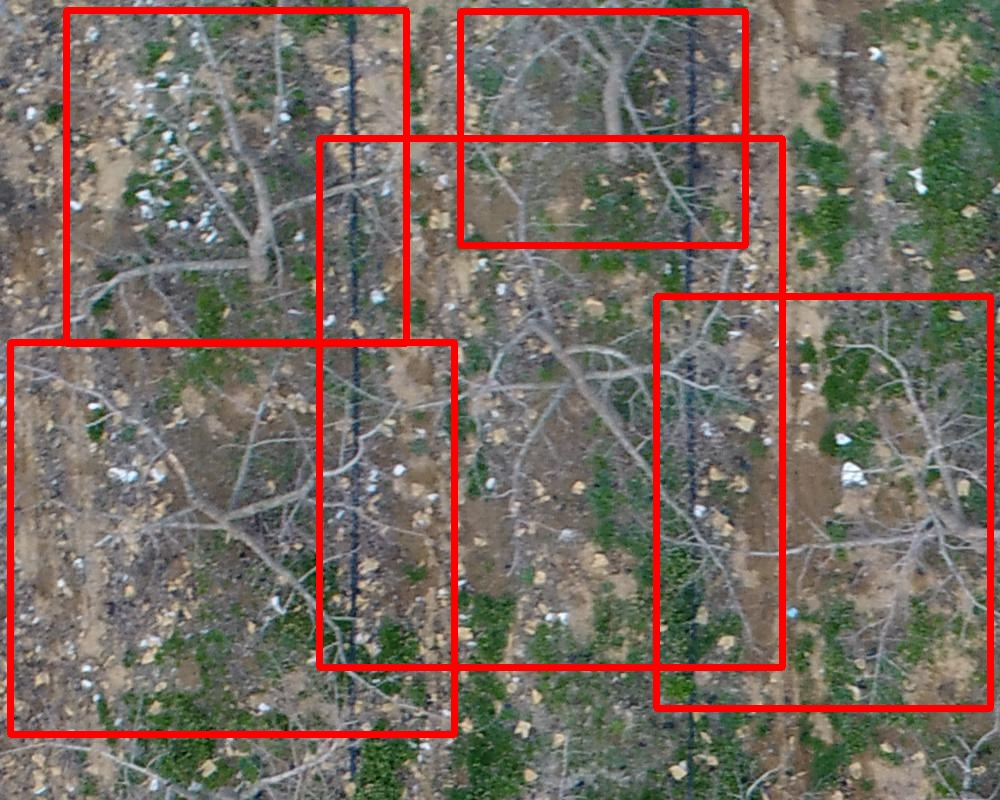apple: (319, 138, 782, 667), (10, 342, 454, 734), (656, 296, 990, 708), (66, 10, 406, 343), (460, 11, 745, 245)
